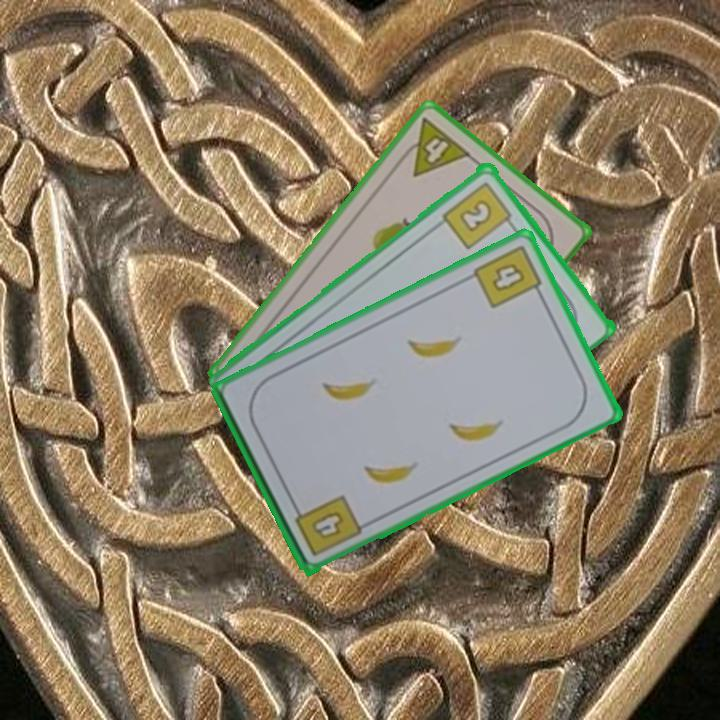2b: (439, 177, 519, 252)
4b: (469, 241, 547, 311), (289, 491, 365, 560)
4p: (393, 113, 474, 180)
